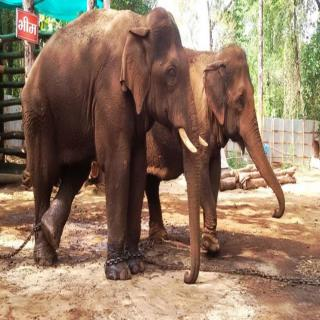Elephant: (19, 6, 209, 288), (196, 36, 287, 268)
